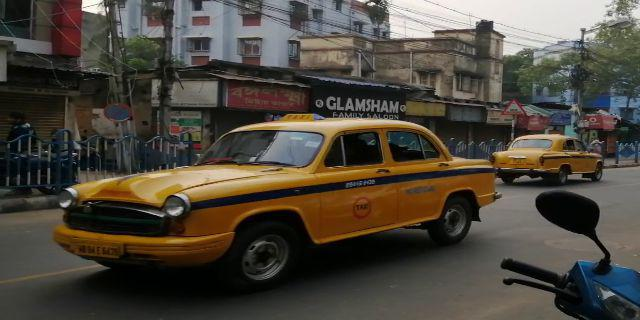Car: (60, 116, 492, 268), (502, 137, 608, 179)
